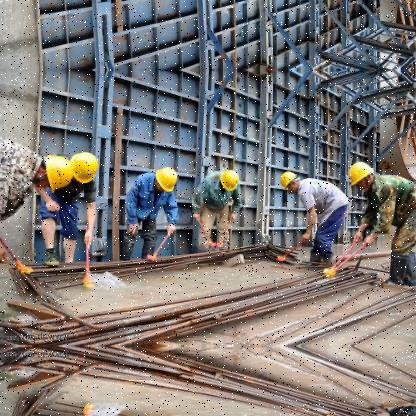helmet: (40, 149, 74, 192), (69, 148, 101, 187), (348, 158, 377, 190), (154, 163, 182, 192), (218, 167, 243, 191), (281, 167, 305, 191)
